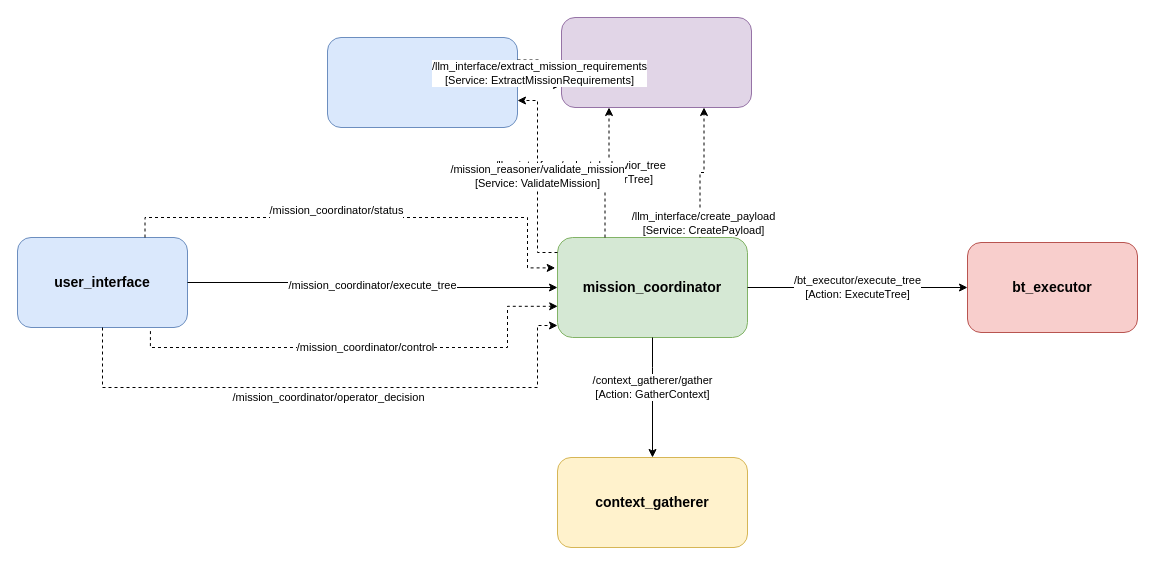
Image size: 1155x565. Some labels were removed from this diagram. The centre of each missing label's shape, as x and y in pixels:
llm_interface: [656,62]
mission_reasoner: [422,82]
